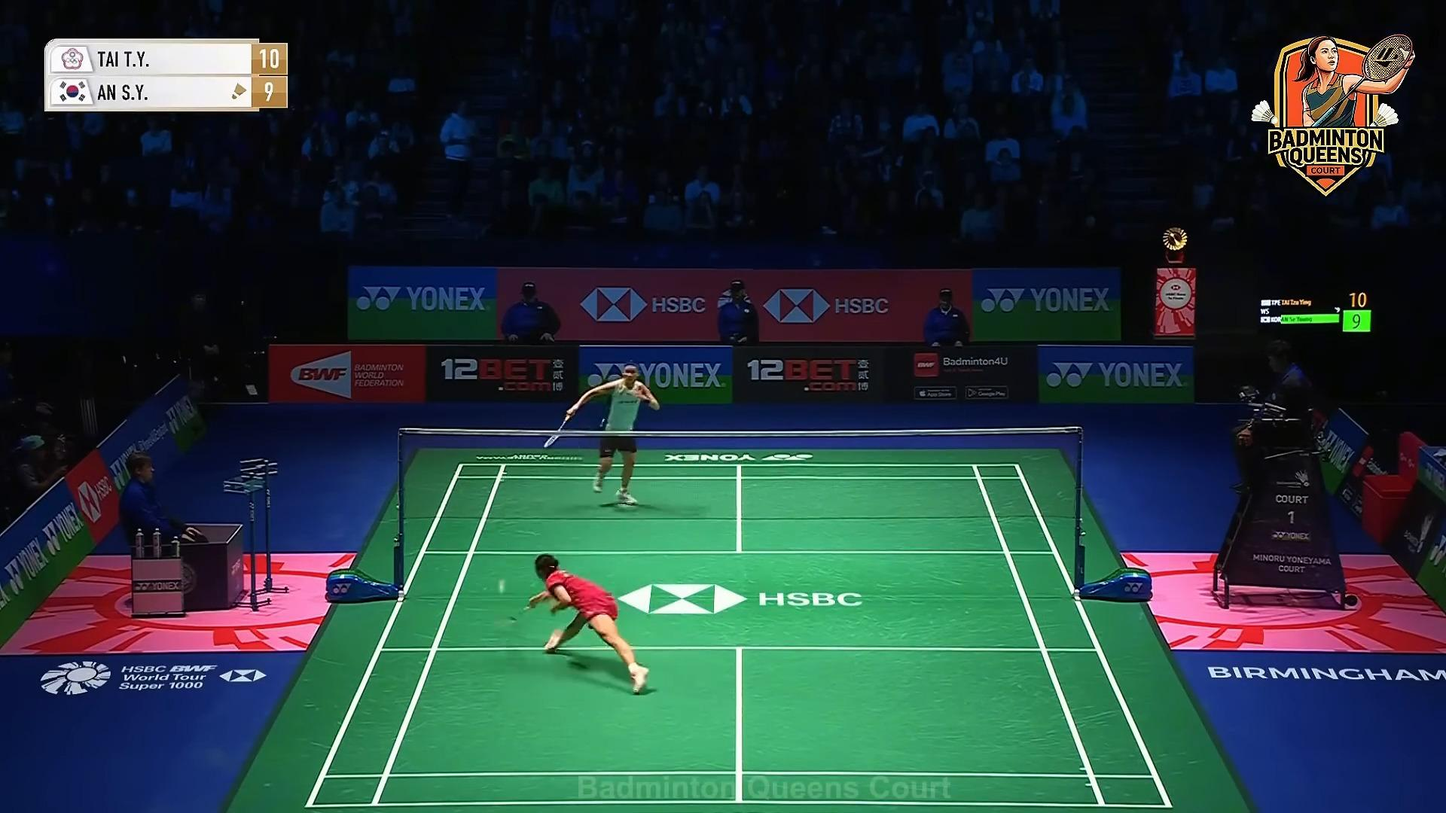shuttlecock: (497, 579, 508, 596)
